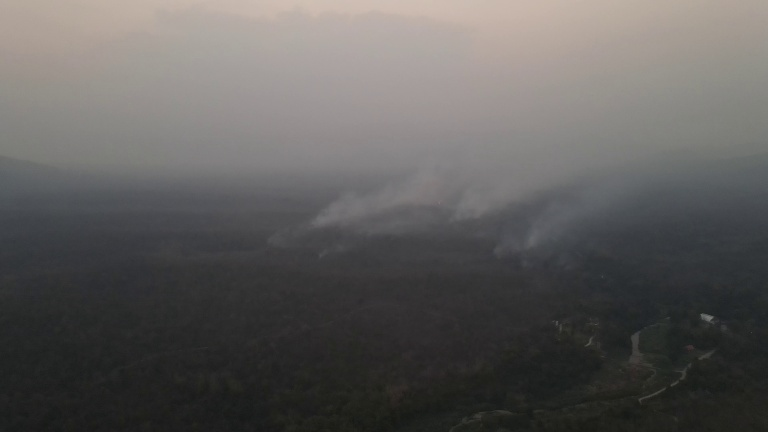fire: (432, 196, 444, 209)
smoke: (305, 112, 583, 239)
